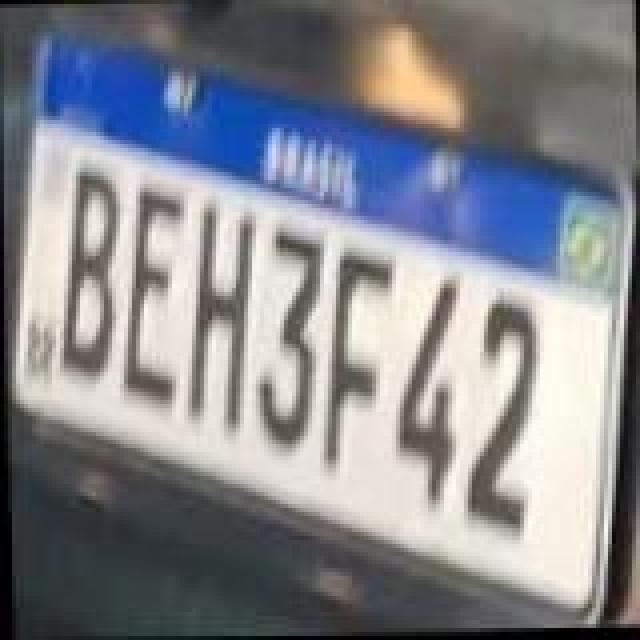2: (460, 296, 544, 532)
3: (252, 232, 332, 448)
4: (394, 286, 466, 502)
B: (56, 170, 128, 378)
E: (118, 190, 194, 402)
F: (314, 256, 398, 464)
H: (178, 210, 262, 430)
